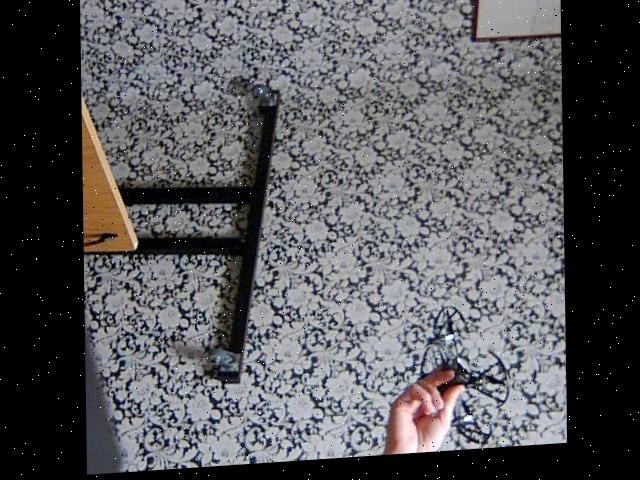drone: (411, 302, 514, 458)
